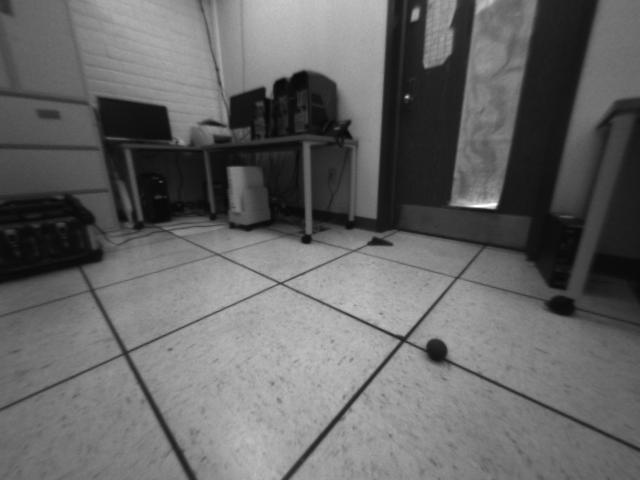dogtoy: (419, 333, 460, 366)
